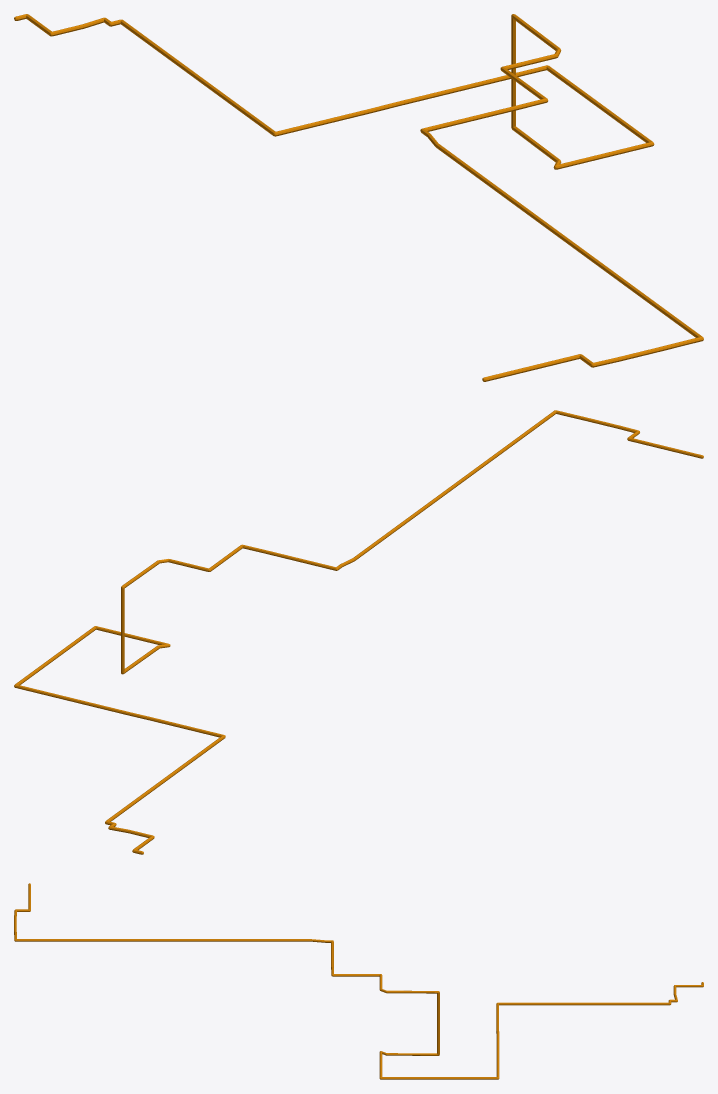
3 views of the same model, one above another, from view 1: azimuth 30°, elevation 25°; view 2: azimuth 150°, elevation 25°; view 3: azimuth 270°, elevation 25° (orthographic). The views are drawn at different scales.
Size of the model in its own units: 2278 by 520 by 5010.
